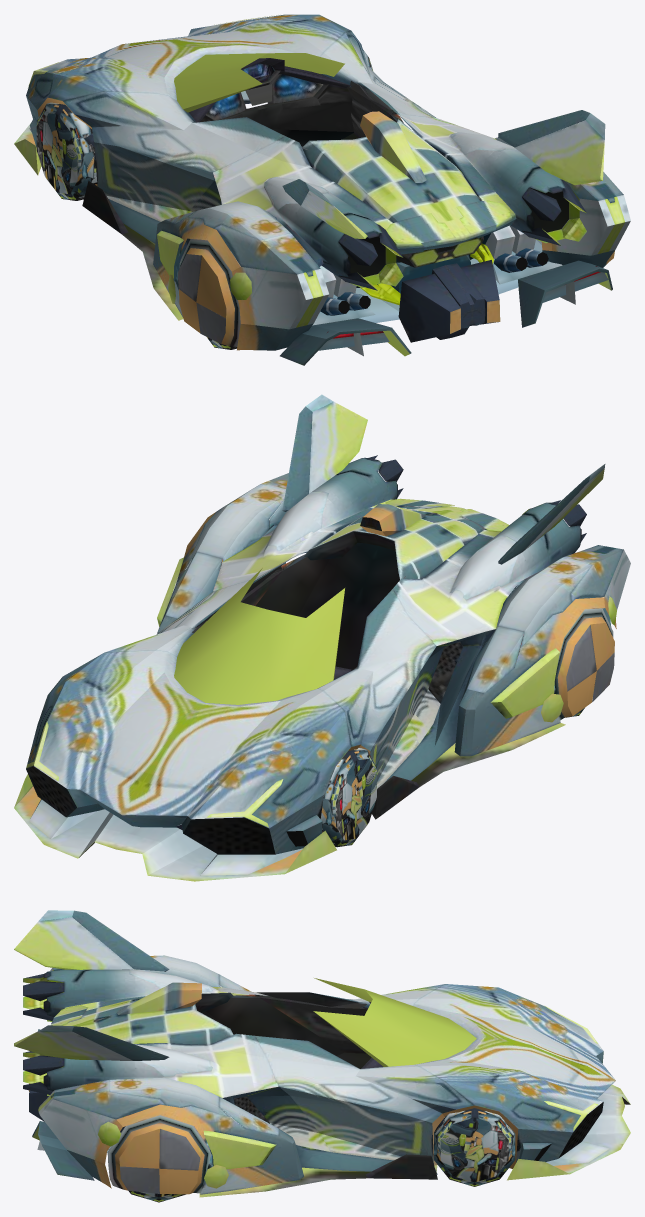
The picture shows the model from 3 angles, top to bottom: view 1: azimuth 30°, elevation 25°; view 2: azimuth 150°, elevation 25°; view 3: azimuth 270°, elevation 25°; orthographic projection. The views are drawn at different scales.
Visible parts, largest first — view 1: body; view 2: body; view 3: body.
Part boxes in pixels (<box>): body: <box>14,14,630,365</box>; body: <box>14,394,630,881</box>; body: <box>14,910,630,1202</box>.
Size of the model in its own units: 2.7 by 1.24 by 4.33.
Materials: 1 (1 with a texture image).
